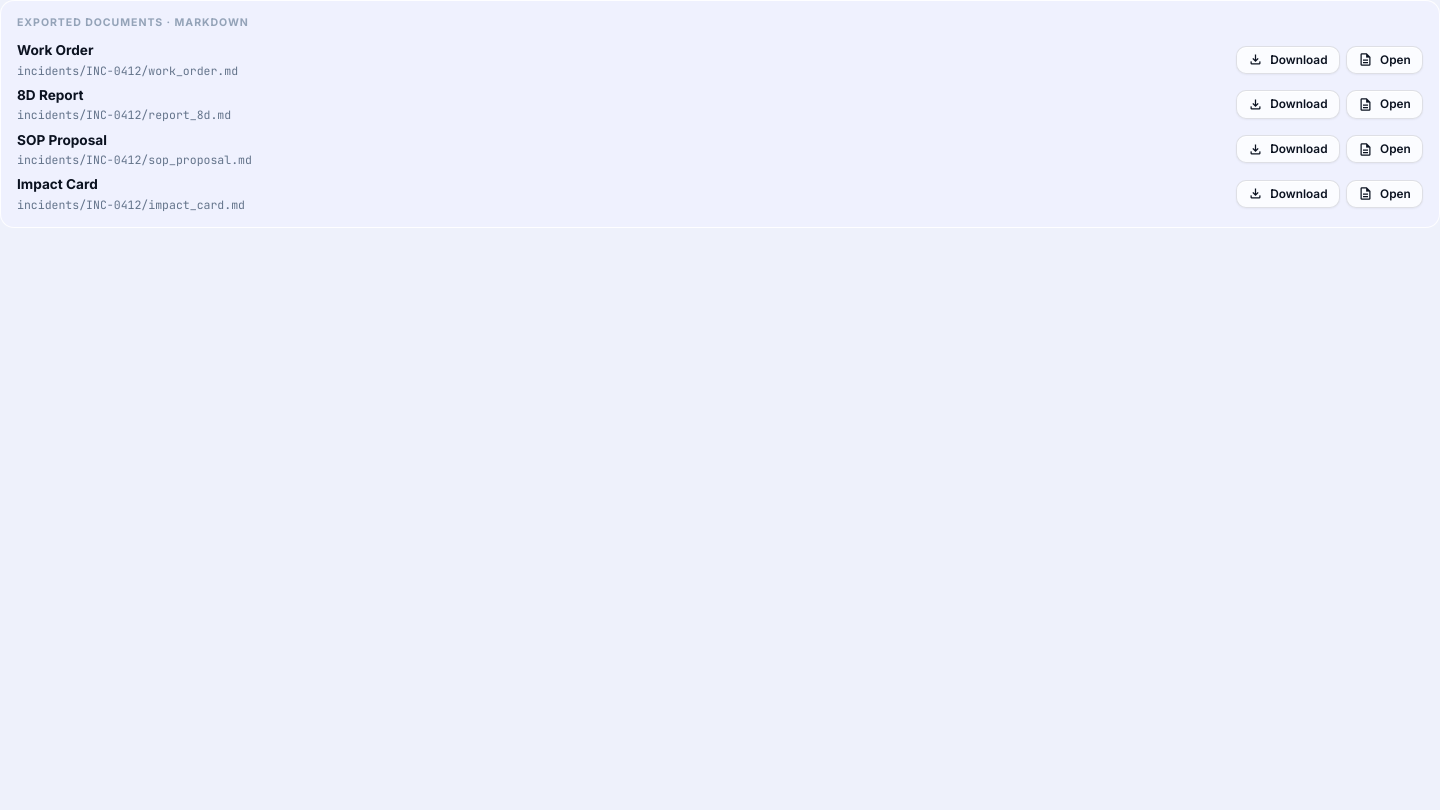
ExportedDocuments (#333) › opens a modal that renders the document Markdown
Step 1. Click the button with aria-label "Open Work Order" → (1384, 60), box [1346,46,1423,74]
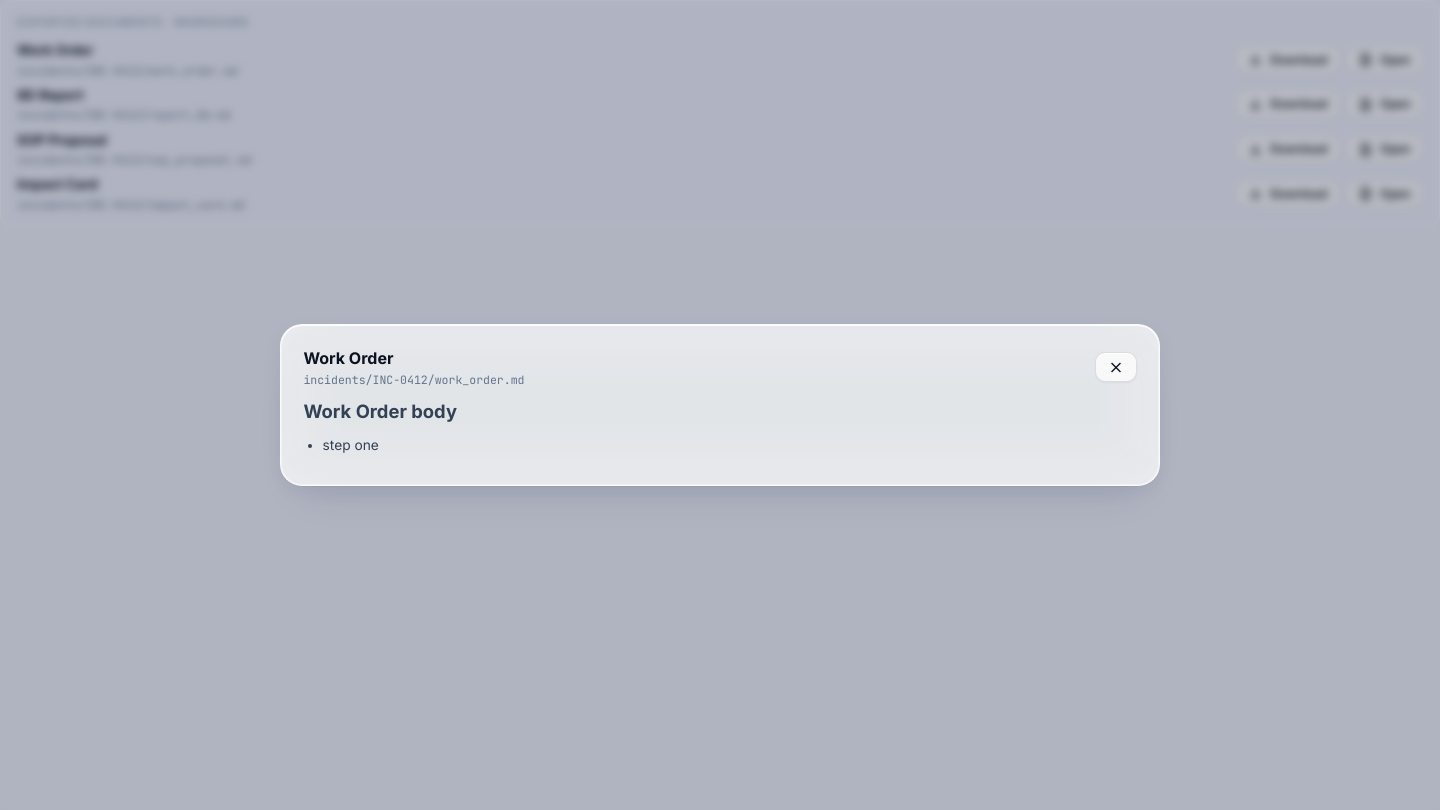
Expected: the dialog is shown, [280,324,1160,486]
Expected: the heading "Work Order body" is shown, [303,400,457,422]
